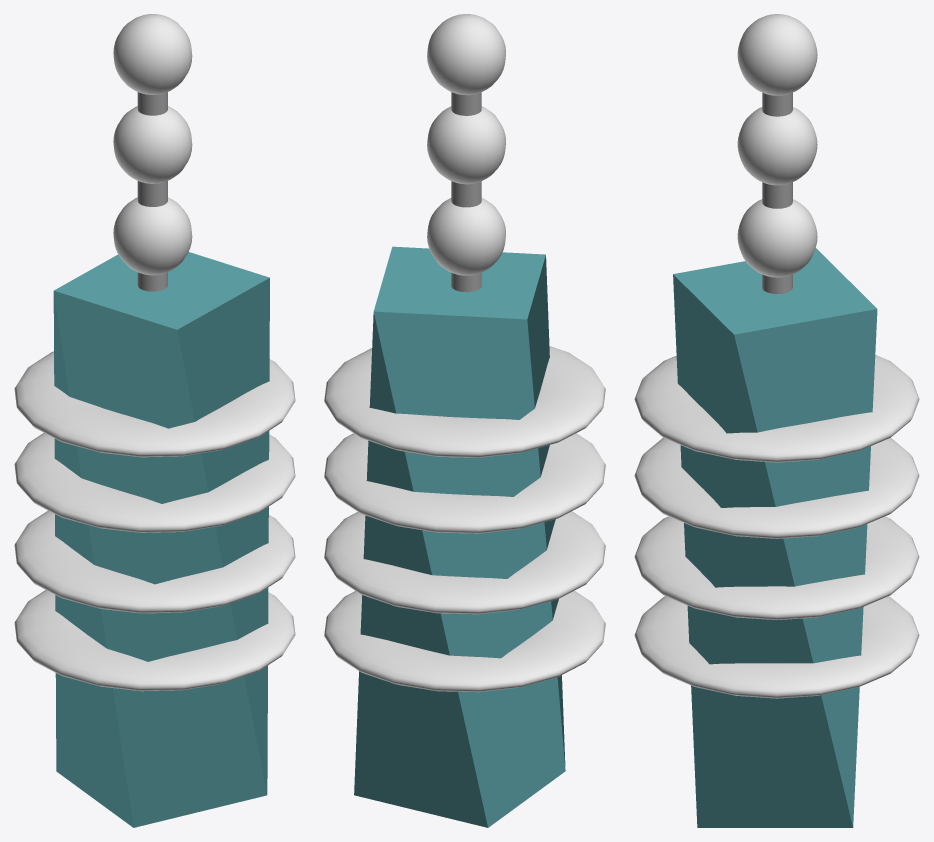
File: SpinBuilding2.fbx
3 renders of one model, left to right at view 1: azimuth 30°, elevation 25°; view 2: azimuth 150°, elevation 25°; view 3: azimuth 270°, elevation 25°, orthographic.
Parts seen in each view (by area): view 1: pTorus5; view 2: pTorus5; view 3: pTorus5.
Boxes of the visible parts, bbox=[...] form: pTorus5: bbox=[14, 14, 295, 827]; pTorus5: bbox=[324, 14, 605, 827]; pTorus5: bbox=[634, 14, 919, 827].
Size of the model in its own units: 36.1 by 108 by 36.1.
